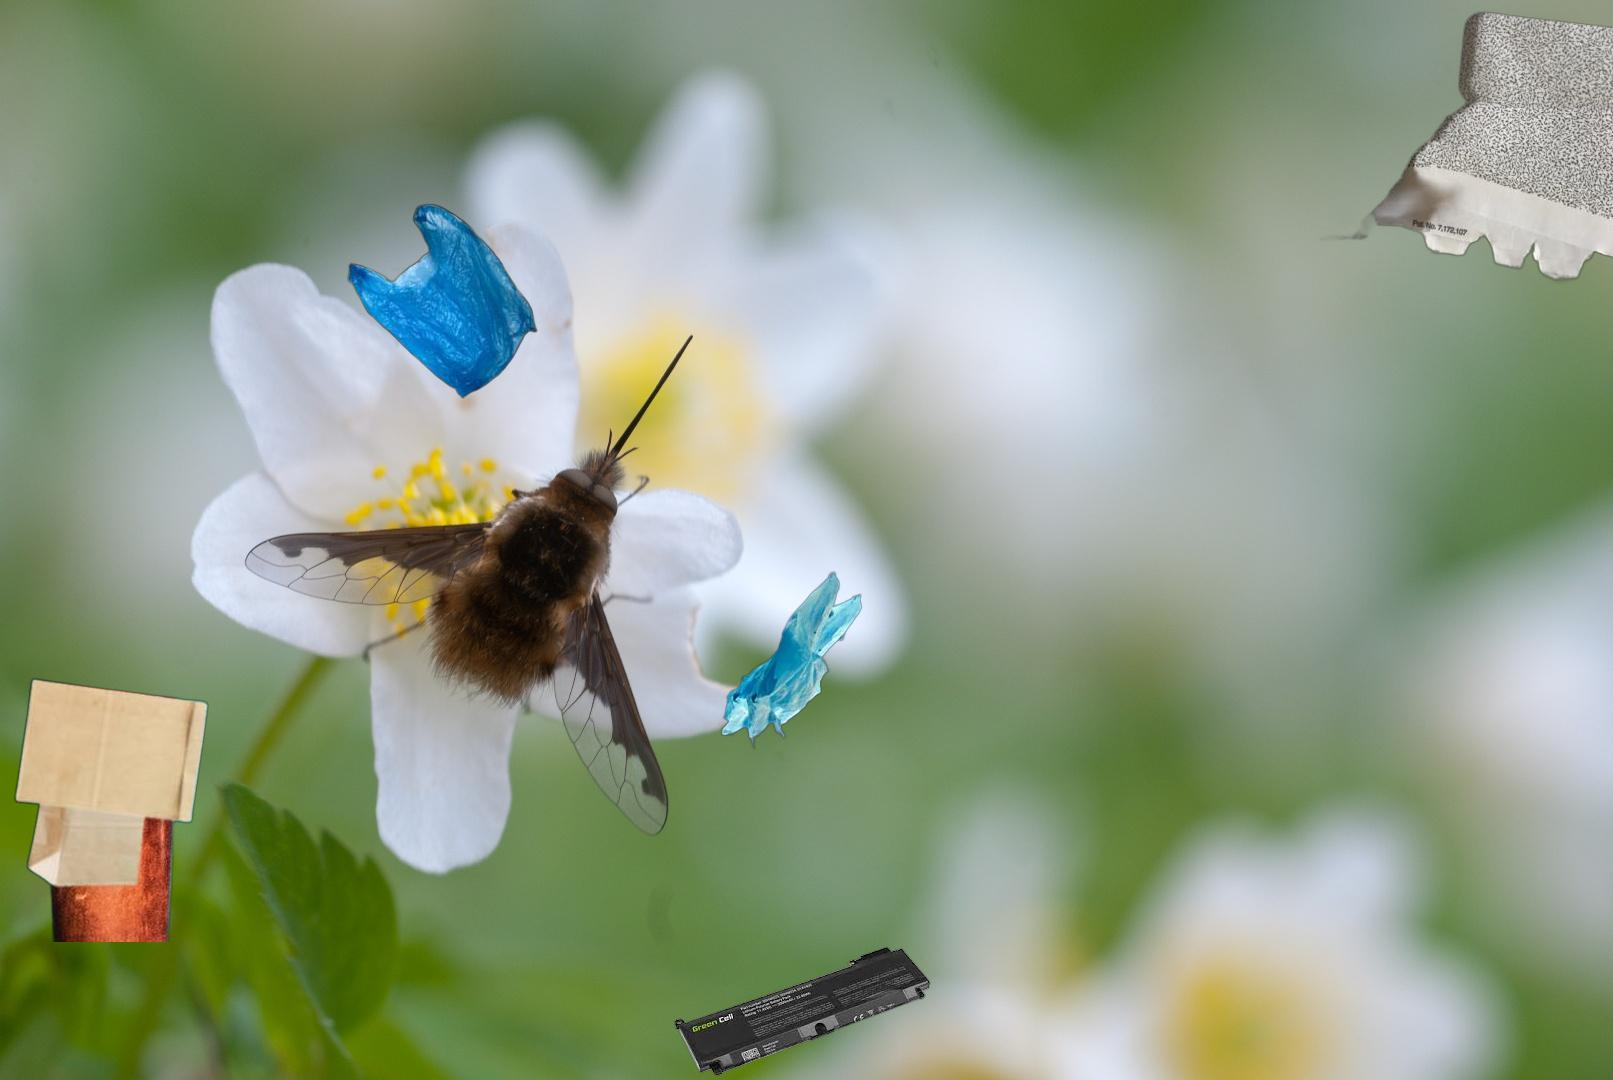battery: (673, 944, 932, 1078)
paper: (1318, 8, 1613, 287)
paper-bag: (2, 676, 210, 943)
plastic-bag: (345, 202, 540, 400), (717, 569, 866, 753)
